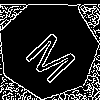M: (23, 24, 86, 86)
